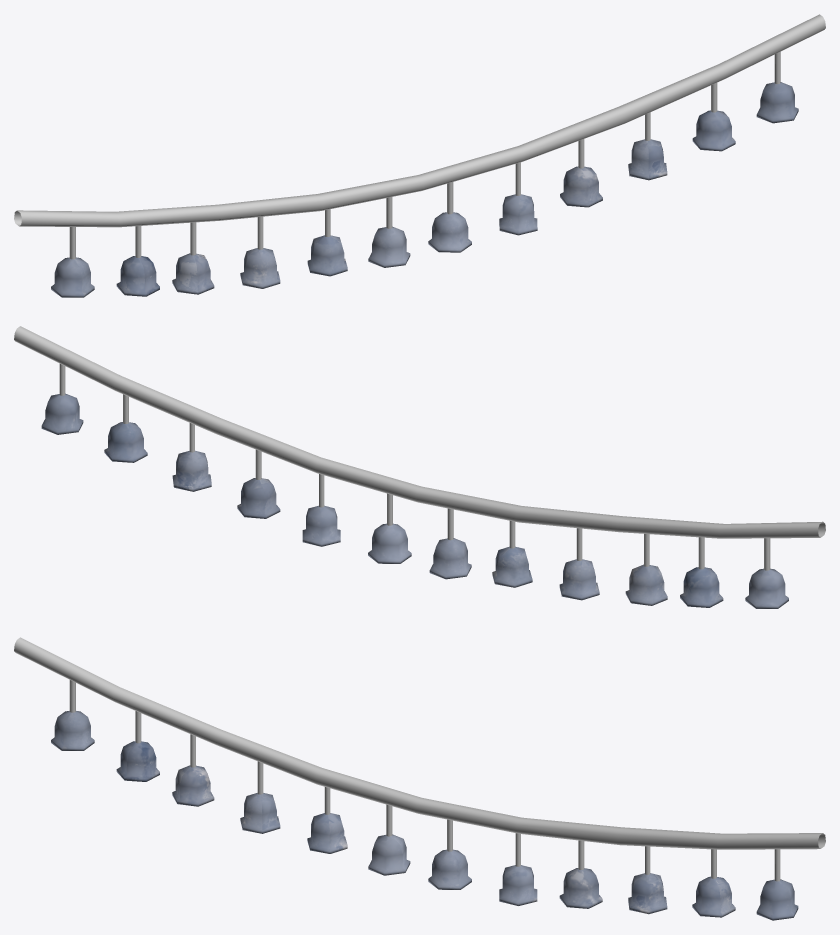
File: Rope_Bells_1.fbx
The picture shows the model from 3 angles, top to bottom: view 1: azimuth 30°, elevation 25°; view 2: azimuth 150°, elevation 25°; view 3: azimuth 330°, elevation 25°; orthographic projection.
Parts seen in each view (by area): view 1: Rope_Bells_1; view 2: Rope_Bells_1; view 3: Rope_Bells_1.
Part boxes in pixels (left/top/right/bottom): Rope_Bells_1: left=14, top=14, right=825, bottom=297; Rope_Bells_1: left=14, top=326, right=825, bottom=608; Rope_Bells_1: left=14, top=637, right=825, bottom=920.
Bounding box in the file's own units: 2.5 × 0.4282 × 0.1183.
